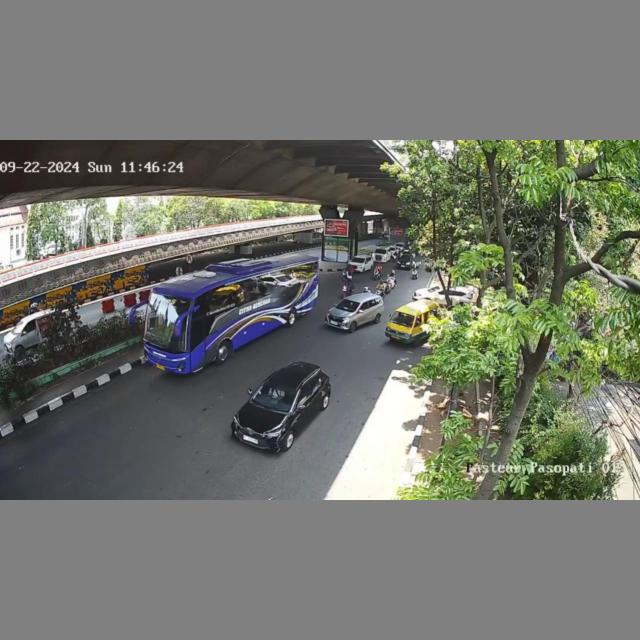windshield: (250, 382, 297, 411), (390, 311, 414, 329), (336, 298, 360, 314)
